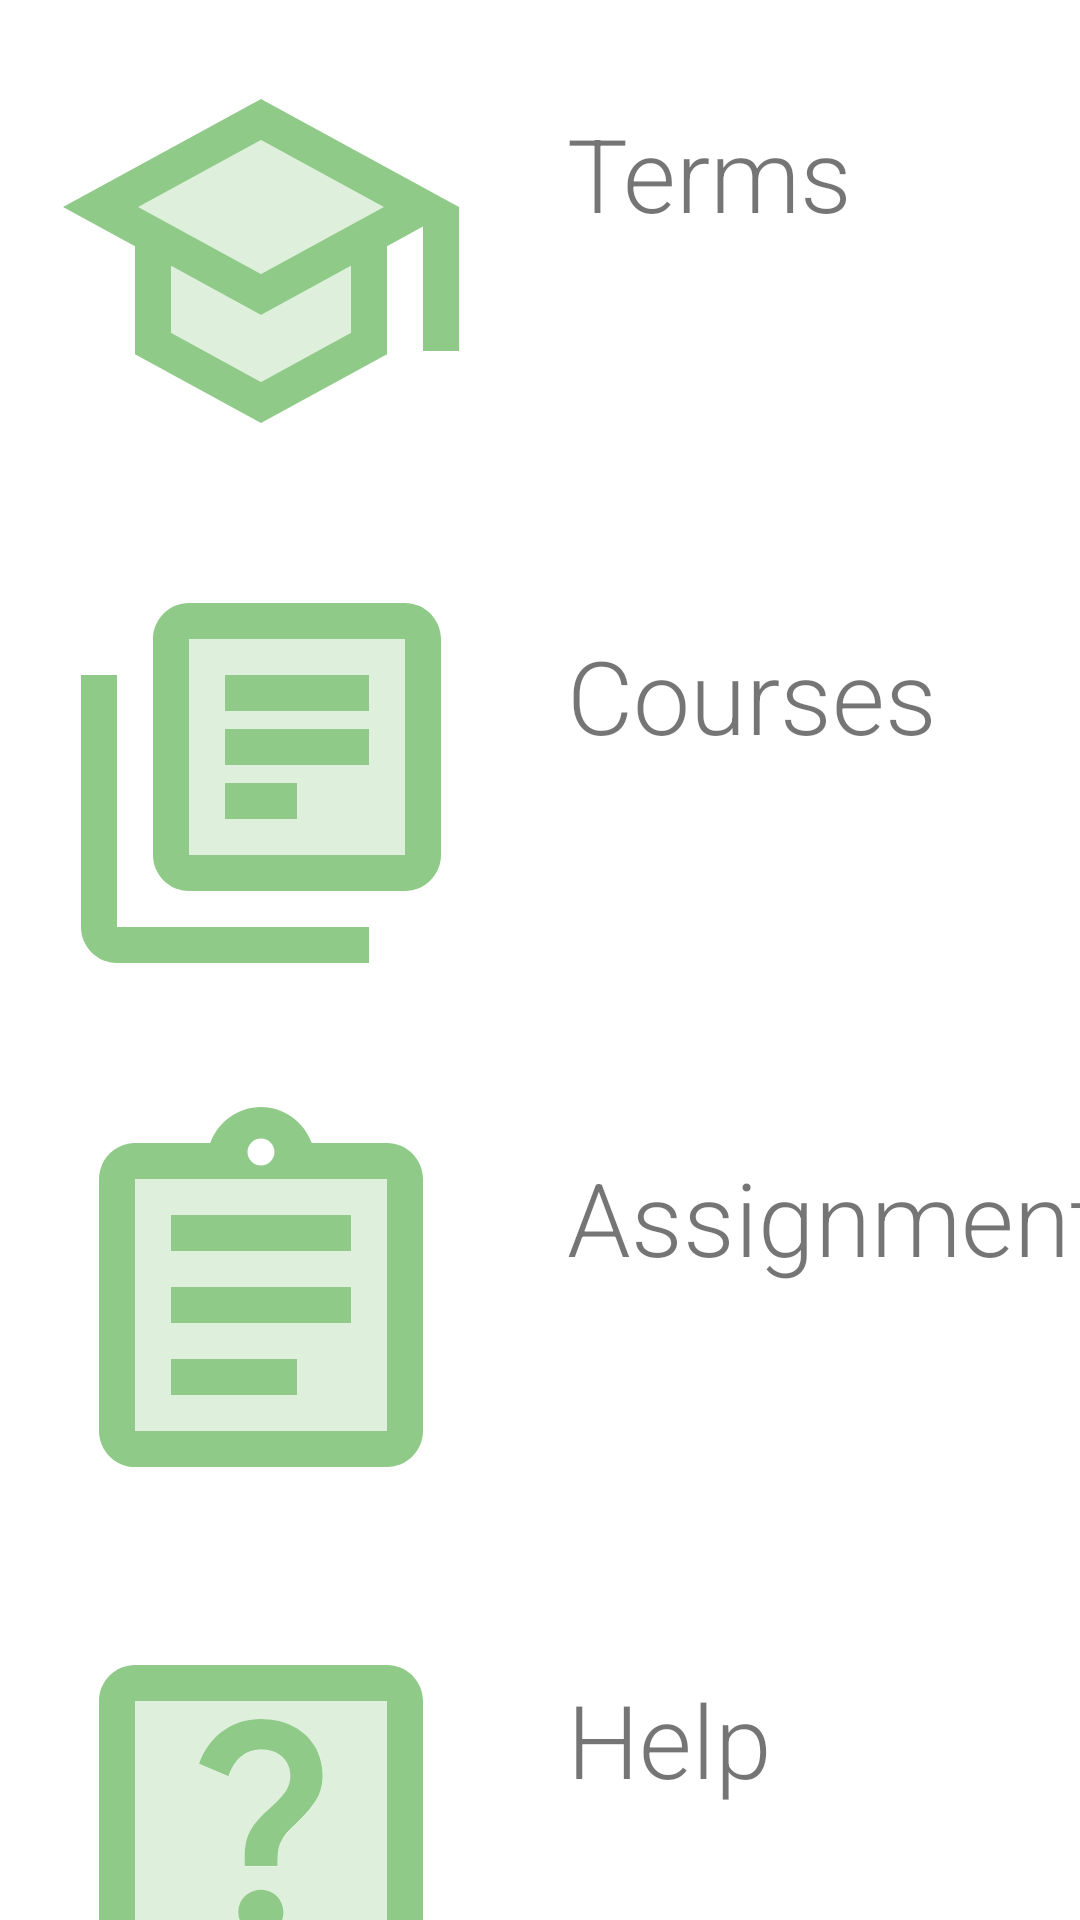

Named icons in this screenshot (1080*1920) and their bounding boxes, (x1, y1, x2, y2):
library books: (81, 603, 441, 963)
